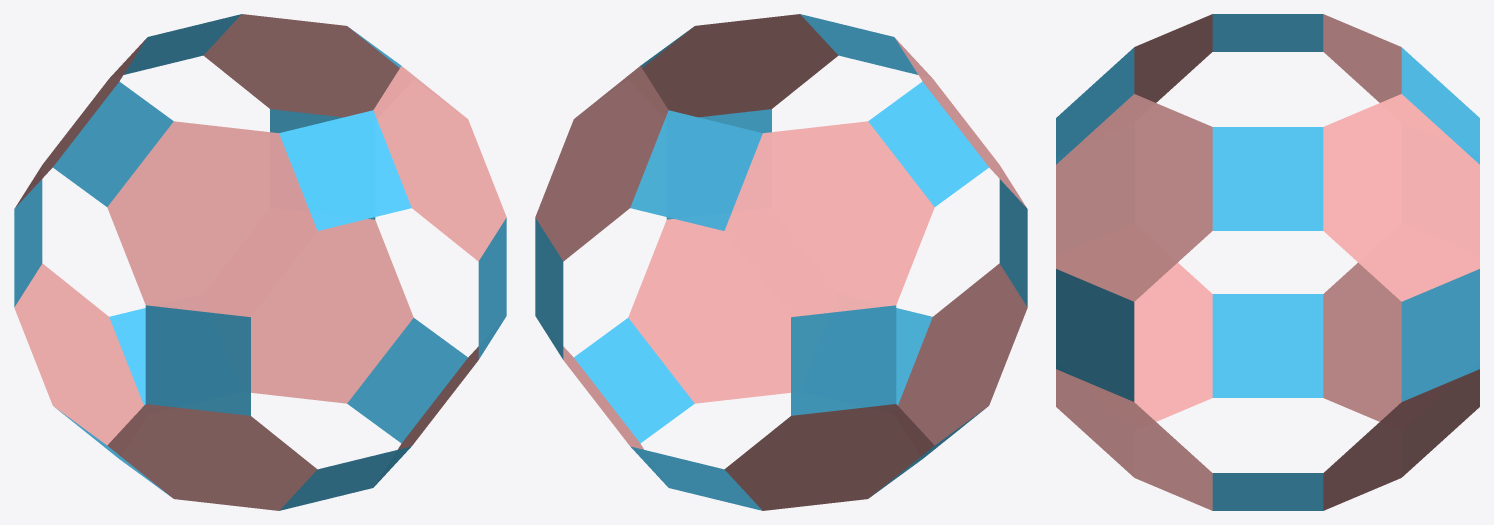
File: TruncatedCuboctahedronA.obj
3 views of the same model, side by side, from view 1: azimuth 30°, elevation 25°; view 2: azimuth 150°, elevation 25°; view 3: azimuth 270°, elevation 25° (orthographic).
Bounding box in the file's own units: 3.83 × 3.83 × 3.83.
